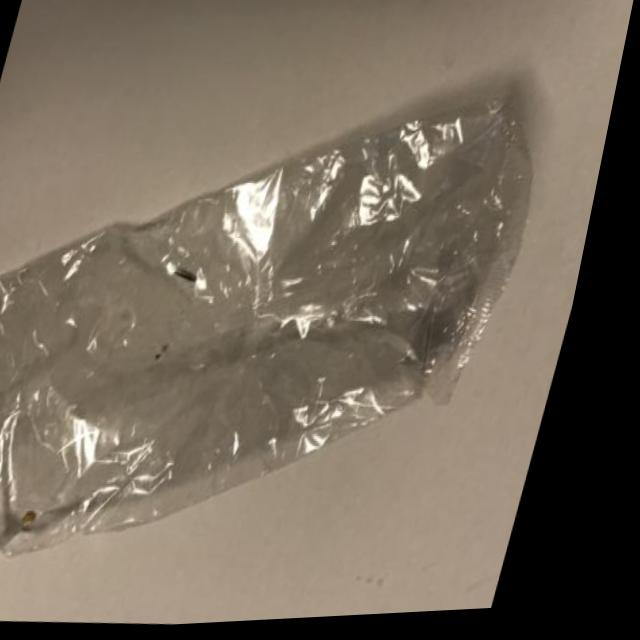trash: (0, 30, 593, 623)
